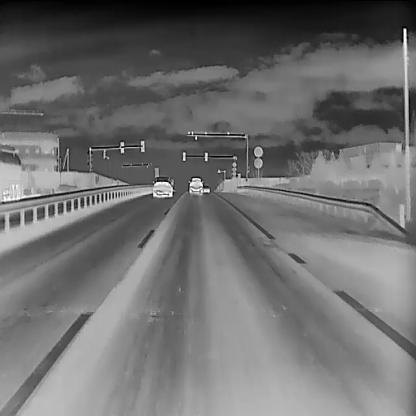car: (0, 142, 22, 202), (151, 175, 173, 197), (188, 175, 204, 193), (202, 184, 210, 193)
